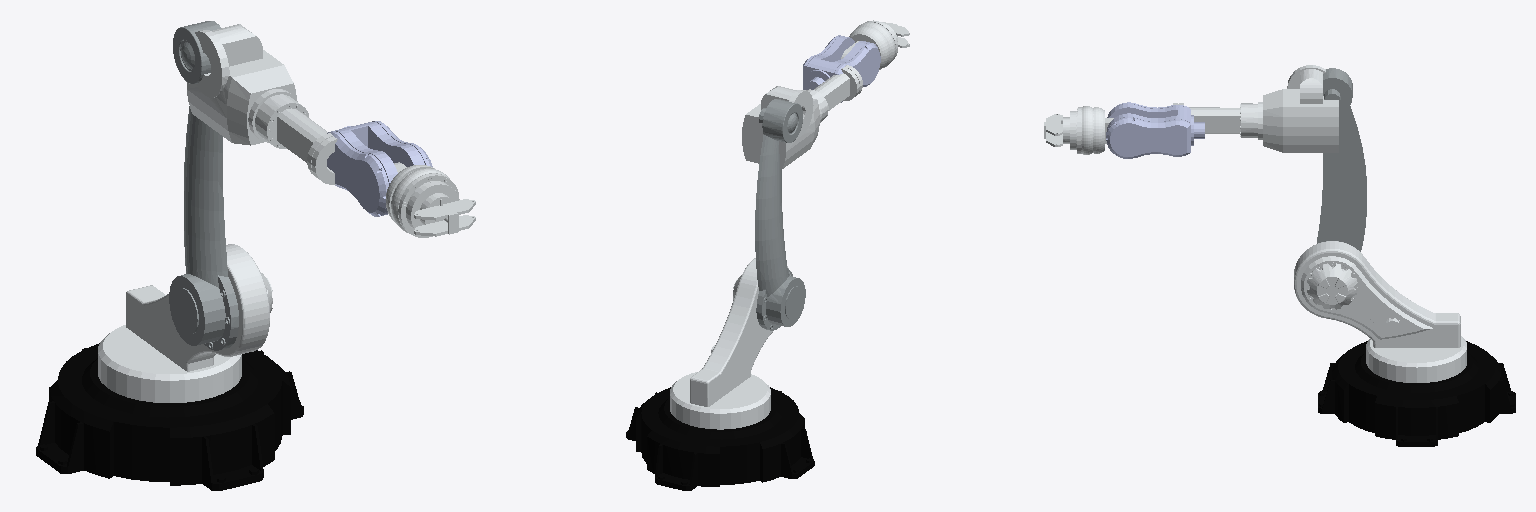
The robot description file, URDF, robot "dof6arm":
<?xml version="1.0" encoding="utf-8"?>
<!-- This URDF was automatically created by SolidWorks to URDF Exporter! Originally created by Stephen Brawner (brawner@gmail.com) 
     Commit Version: 1.6.0-4-g7f85cfe  Build Version: 1.6.7995.38578
     For more information, please see http://wiki.ros.org/sw_urdf_exporter -->
<robot
  name="dof6arm">
  <link
    name="base_link">
    <inertial>
      <origin
        xyz="-4.0864E-17 5.9406E-17 0.039627"
        rpy="0 0 0" />
      <mass
        value="5.5104" />
      <inertia
        ixx="0.032533"
        ixy="-5.673E-17"
        ixz="6.6064E-18"
        iyy="0.032533"
        iyz="2.006E-18"
        izz="0.058905" />
    </inertial>
    <visual>
      <origin
        xyz="0 0 0"
        rpy="0 0 0" />
      <geometry>
        <mesh
          filename="package://dof6arm/meshes/base_link.STL" />
      </geometry>
      <material
        name="">
        <color
          rgba="0.058824 0.058824 0.058824 1" />
      </material>
    </visual>
    <collision>
      <origin
        xyz="0 0 0"
        rpy="0 0 0" />
      <geometry>
        <mesh
          filename="package://dof6arm/meshes/base_link.STL" />
      </geometry>
    </collision>
  </link>
  <link
    name="link1">
    <inertial>
      <origin
        xyz="0.0563146133187169 0.00239652717597299 0.0813964976165743"
        rpy="0 0 0" />
      <mass
        value="2.25493378297323" />
      <inertia
        ixx="0.011607639577804"
        ixy="-0.000401687438060295"
        ixz="-0.00887971625811838"
        iyy="0.0231563698921059"
        iyz="-0.000351050031071559"
        izz="0.0158798775719755" />
    </inertial>
    <visual>
      <origin
        xyz="0 0 0"
        rpy="0 0 0" />
      <geometry>
        <mesh
          filename="package://dof6arm/meshes/link1.STL" />
      </geometry>
      <material
        name="">
        <color
          rgba="0.898039215686275 0.917647058823529 0.929411764705882 1" />
      </material>
    </visual>
    <collision>
      <origin
        xyz="0 0 0"
        rpy="0 0 0" />
      <geometry>
        <mesh
          filename="package://dof6arm/meshes/link1.STL" />
      </geometry>
    </collision>
  </link>
  <joint
    name="joint1"
    type="revolute">
    <origin
      xyz="0 0 0.085"
      rpy="0 0 1.5708" />
    <parent
      link="base_link" />
    <child
      link="link1" />
    <axis
      xyz="0 0 1" />
    <limit
      lower="3.14"
      upper="3.14"
      effort="200"
      velocity="10" />
  </joint>
  <link
    name="link2">
    <inertial>
      <origin
        xyz="-0.00806034777883224 0.142663588040641 0.015222810563985"
        rpy="0 0 0" />
      <mass
        value="0.920714229759599" />
      <inertia
        ixx="0.0178612448022285"
        ixy="0.00015240648671748"
        ixz="-3.03747804024019E-05"
        iyy="0.000614865169369136"
        iyz="7.16300104564684E-05"
        izz="0.0182052343067563" />
    </inertial>
    <visual>
      <origin
        xyz="0 0 0"
        rpy="0 0 0" />
      <geometry>
        <mesh
          filename="package://dof6arm/meshes/link2.STL" />
      </geometry>
      <material
        name="">
        <color
          rgba="0.63921568627451 0.666666666666667 0.67843137254902 1" />
      </material>
    </visual>
    <collision>
      <origin
        xyz="0 0 0"
        rpy="0 0 0" />
      <geometry>
        <mesh
          filename="package://dof6arm/meshes/link2.STL" />
      </geometry>
    </collision>
  </link>
  <joint
    name="joint2"
    type="revolute">
    <origin
      xyz="0.15 -0.02 0.16"
      rpy="1.5708 0 0" />
    <parent
      link="link1" />
    <child
      link="link2" />
    <axis
      xyz="0 0 1" />
    <limit
      lower="-1.57"
      upper="1.57"
      effort="200"
      velocity="10" />
  </joint>
  <link
    name="link3">
    <inertial>
      <origin
        xyz="-0.0399152602038644 -0.0446167070292327 -0.0460373494010405"
        rpy="0 0 0" />
      <mass
        value="1.43145554418529" />
      <inertia
        ixx="0.00807676591024907"
        ixy="-0.000324747907195901"
        ixz="-0.000112859910370775"
        iyy="0.00186636959248532"
        iyz="-9.341394228171E-05"
        izz="0.00844554620214213" />
    </inertial>
    <visual>
      <origin
        xyz="0 0 0"
        rpy="0 0 0" />
      <geometry>
        <mesh
          filename="package://dof6arm/meshes/link3.STL" />
      </geometry>
      <material
        name="">
        <color
          rgba="0.898039215686275 0.917647058823529 0.929411764705882 1" />
      </material>
    </visual>
    <collision>
      <origin
        xyz="0 0 0"
        rpy="0 0 0" />
      <geometry>
        <mesh
          filename="package://dof6arm/meshes/link3.STL" />
      </geometry>
    </collision>
  </link>
  <joint
    name="joint3"
    type="revolute">
    <origin
      xyz="0 0.35 0"
      rpy="0 0 1.5708" />
    <parent
      link="link2" />
    <child
      link="link3" />
    <axis
      xyz="0 0 1" />
    <limit
      lower="-3.14"
      upper="1.57"
      effort="200"
      velocity="10" />
  </joint>
  <link
    name="link4">
    <inertial>
      <origin
        xyz="0 -9.99200722162641E-16 0.065964889335451"
        rpy="0 0 0" />
      <mass
        value="0.581435273248315" />
      <inertia
        ixx="0.00158017066215487"
        ixy="2.44381629558985E-10"
        ixz="-7.35582035514334E-19"
        iyy="0.0014063460239573"
        iyz="-1.03875614714129E-18"
        izz="0.000596523986913166" />
    </inertial>
    <visual>
      <origin
        xyz="0 0 0"
        rpy="0 0 0" />
      <geometry>
        <mesh
          filename="package://dof6arm/meshes/link4.STL" />
      </geometry>
      <material
        name="">
        <color
          rgba="0.792156862745098 0.819607843137255 0.933333333333333 1" />
      </material>
    </visual>
    <collision>
      <origin
        xyz="0 0 0"
        rpy="0 0 0" />
      <geometry>
        <mesh
          filename="package://dof6arm/meshes/link4.STL" />
      </geometry>
    </collision>
  </link>
  <joint
    name="joint4"
    type="revolute">
    <origin
      xyz="-0.045 -0.251 -0.0475"
      rpy="1.5708 0 0" />
    <parent
      link="link3" />
    <child
      link="link4" />
    <axis
      xyz="0 0 1" />
    <limit
      lower="-3.14"
      upper="3.14"
      effort="200"
      velocity="10" />
  </joint>
  <link
    name="link5">
    <inertial>
      <origin
        xyz="-1.11022302462516E-16 -0.0589618551287788 0.00017831823908418"
        rpy="0 0 0" />
      <mass
        value="0.339144547925522" />
      <inertia
        ixx="0.000355541202477726"
        ixy="-7.6745270608399E-22"
        ixz="-3.2011026778204E-23"
        iyy="0.000248853470602005"
        iyz="-3.56575702010573E-06"
        izz="0.000358769992191287" />
    </inertial>
    <visual>
      <origin
        xyz="0 0 0"
        rpy="0 0 0" />
      <geometry>
        <mesh
          filename="package://dof6arm/meshes/link5.STL" />
      </geometry>
      <material
        name="">
        <color
          rgba="0.898039215686275 0.917647058823529 0.929411764705882 1" />
      </material>
    </visual>
    <collision>
      <origin
        xyz="0 0 0"
        rpy="0 0 0" />
      <geometry>
        <mesh
          filename="package://dof6arm/meshes/link5.STL" />
      </geometry>
    </collision>
  </link>
  <joint
    name="joint5"
    type="revolute">
    <origin
      xyz="0 0.0005 0.11"
      rpy="-1.5708 0 0" />
    <parent
      link="link4" />
    <child
      link="link5" />
    <axis
      xyz="0 0 1" />
    <limit
      lower="-1.57"
      upper="1.57"
      effort="200"
      velocity="10" />
  </joint>
  <link
    name="link6">
    <inertial>
      <origin
        xyz="0 -1.17961196366423E-15 0.00628470620704225"
        rpy="0 0 0" />
      <mass
        value="0.0762574810565132" />
      <inertia
        ixx="3.79559798700621E-05"
        ixy="-5.78032232262219E-21"
        ixz="5.98732041747797E-22"
        iyy="3.20288004196063E-05"
        iyz="2.81145560238281E-20"
        izz="3.99525744954328E-05" />
    </inertial>
    <visual>
      <origin
        xyz="0 0 0"
        rpy="0 0 0" />
      <geometry>
        <mesh
          filename="package://dof6arm/meshes/link6.STL" />
      </geometry>
      <material
        name="">
        <color
          rgba="0.898039215686275 0.917647058823529 0.929411764705882 1" />
      </material>
    </visual>
    <collision>
      <origin
        xyz="0 0 0"
        rpy="0 0 0" />
      <geometry>
        <mesh
          filename="package://dof6arm/meshes/link6.STL" />
      </geometry>
    </collision>
  </link>
  <joint
    name="joint6"
    type="revolute">
    <origin
      xyz="0 -0.104 0"
      rpy="1.5708 0 0" />
    <parent
      link="link5" />
    <child
      link="link6" />
    <axis
      xyz="0 0 1" />
    <limit
      lower="-3.14"
      upper="3.14"
      effort="200"
      velocity="10" />
  </joint>
  <link
    name="endfector">
    <inertial>
      <origin
        xyz="1.11022302462516E-16 -1.12410081243297E-15 -0.0393199974870748"
        rpy="0 0 0" />
      <mass
        value="0.0762574810565132" />
      <inertia
        ixx="3.79559798700621E-05"
        ixy="-3.43785535520926E-21"
        ixz="1.43016355725182E-22"
        iyy="3.20288004196063E-05"
        iyz="4.99890516382123E-21"
        izz="3.99525744954328E-05" />
    </inertial>
    <visual>
      <origin
        xyz="0 0 0"
        rpy="0 0 0" />
      <geometry>
        <mesh
          filename="package://dof6arm/meshes/endfector.STL" />
      </geometry>
      <material
        name="">
        <color
          rgba="0.898039215686275 0.917647058823529 0.929411764705882 1" />
      </material>
    </visual>
    <collision>
      <origin
        xyz="0 0 0"
        rpy="0 0 0" />
      <geometry>
        <mesh
          filename="package://dof6arm/meshes/endfector.STL" />
      </geometry>
    </collision>
  </link>
  <joint
    name="joint7"
    type="fixed">
    <origin
      xyz="0 0 0.045605"
      rpy="0 0 0" />
    <parent
      link="link6" />
    <child
      link="endfector" />
    <axis
      xyz="0 0 0" />
  </joint>
</robot>

--- Facts derived from the render (not from the file) ---
3 views of the same robot in one strip: view 1: azimuth 30°, elevation 25°; view 2: azimuth 150°, elevation 25°; view 3: azimuth 270°, elevation 25° (orthographic).
Robot: dof6arm — 8 links, 7 joints (6 revolute, 1 fixed); root link base_link; default pose: joints at zero except 1 at the middle of their limits (joint1 = 3.14).
Visible links, largest first — view 1: base_link, link1, link2, link3, link4, link6, link5; view 2: base_link, link1, link2, link3, link4, link5; view 3: link1, base_link, link3, link2, link4, link5, link6.
Link boxes in pixels (x1,y1,x2,y2): base_link: (36, 343, 303, 490); link1: (98, 244, 272, 402); link2: (169, 21, 238, 350); link3: (187, 24, 337, 184); link4: (327, 121, 432, 216); link6: (407, 182, 475, 236); link5: (386, 162, 459, 237); base_link: (626, 387, 814, 490); link1: (670, 258, 788, 429); link2: (755, 99, 805, 330); link3: (742, 65, 862, 168); link4: (803, 35, 880, 102); link5: (841, 20, 897, 69); link1: (1294, 241, 1466, 382); base_link: (1318, 341, 1515, 446); link3: (1173, 65, 1338, 152); link2: (1317, 68, 1366, 251); link4: (1106, 102, 1204, 158); link5: (1076, 106, 1113, 154); link6: (1044, 111, 1075, 149).
Bounding box of the posed robot: 0.35 × 0.8357 × 0.6394 m (x, y, z).
8 mesh visuals loaded from 8 distinct referenced files (8 binary STL).
